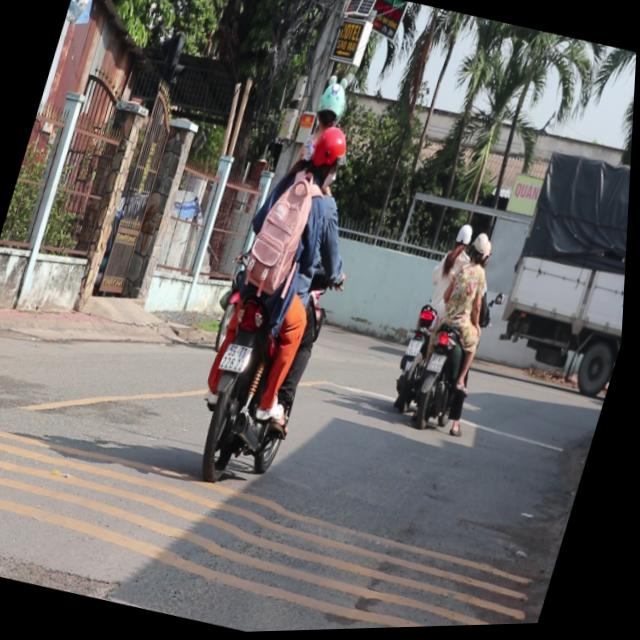helmet: (300, 119, 354, 193), (308, 77, 353, 138), (467, 231, 495, 268), (453, 221, 476, 253)
licenseplate: (173, 62, 399, 494), (405, 221, 520, 439), (388, 216, 477, 417)
nohelmet: (221, 341, 254, 374), (429, 353, 450, 374), (409, 339, 425, 358)
